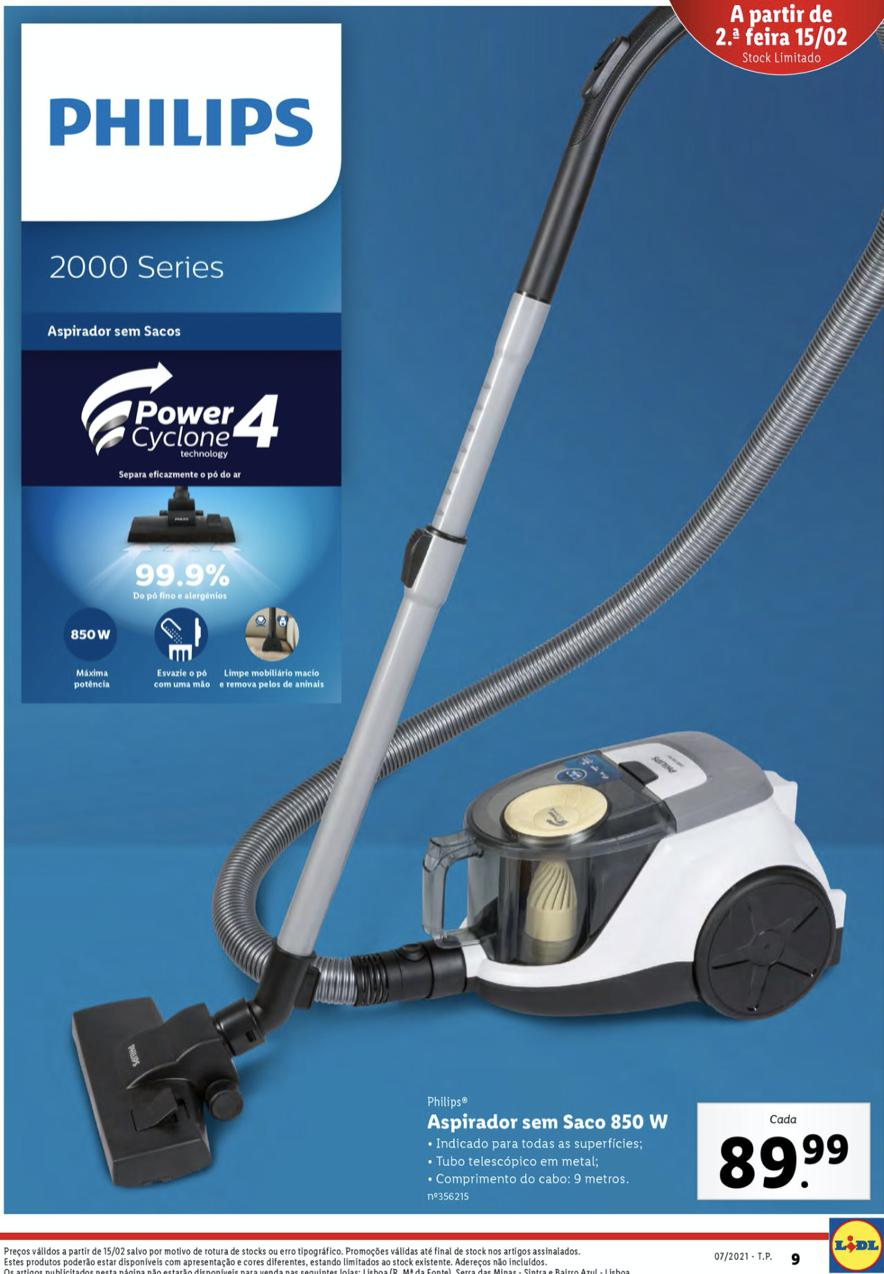name: (421, 1111, 680, 1136)
price: (713, 1127, 853, 1190)
product: (53, 44, 881, 1212)
